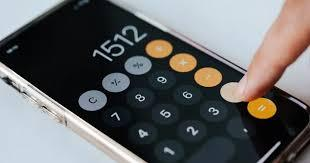Calculator: (74, 18, 285, 163)
